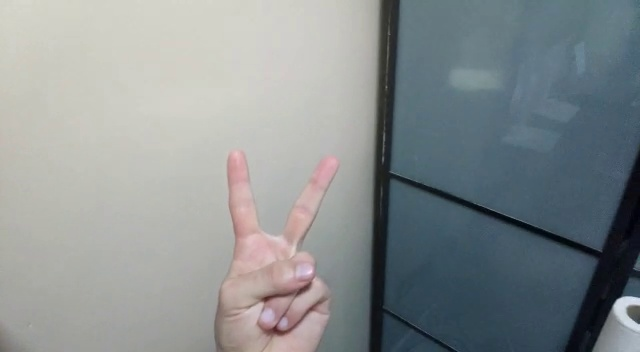Peace: (207, 150, 348, 352)
